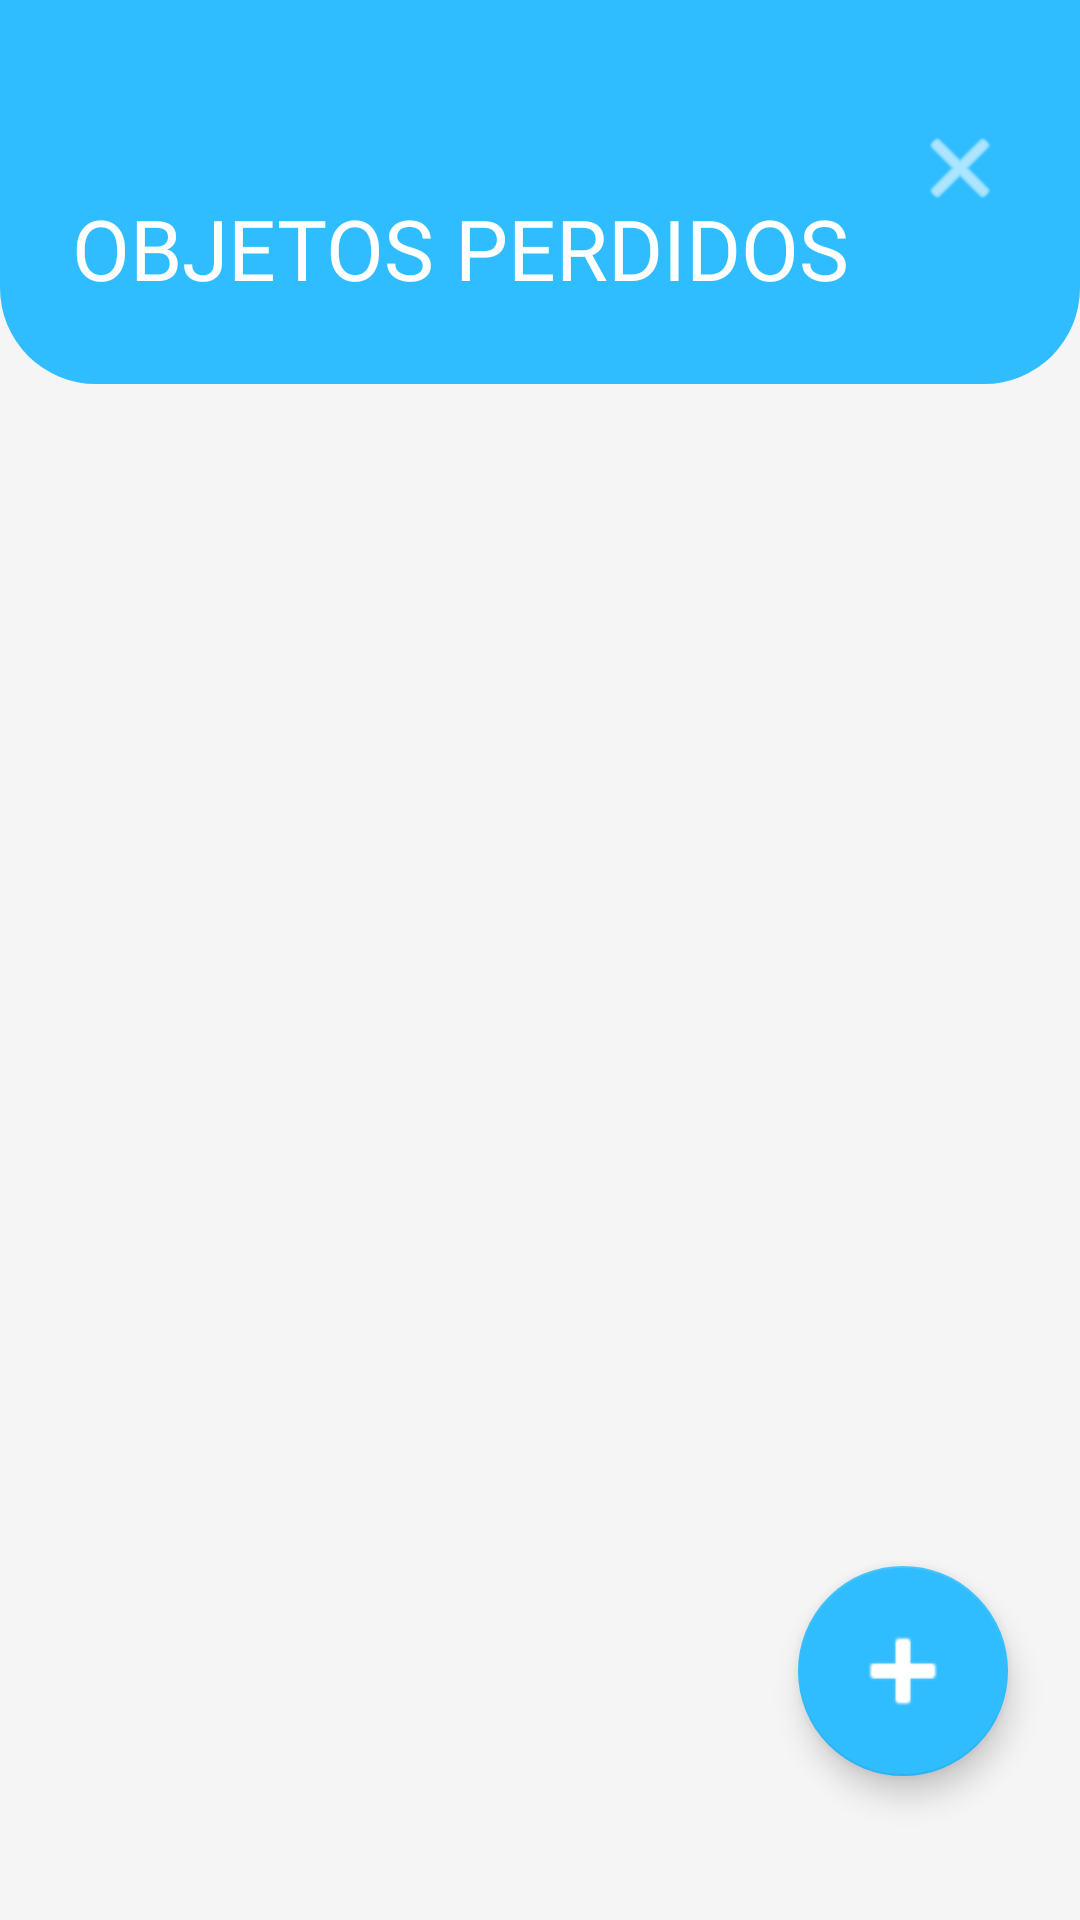

Icon click points for this 1080px×1920px phone screenshot, format (x=x, y=y):
add: (x=903, y=1671)
close clear cancel: (x=960, y=168)
